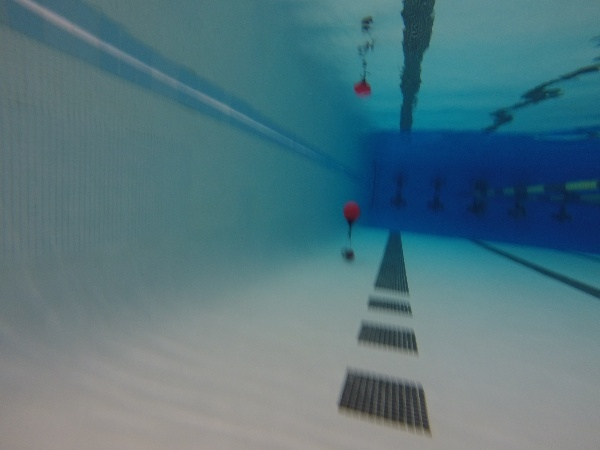buoy_red: (343, 201, 359, 225)
